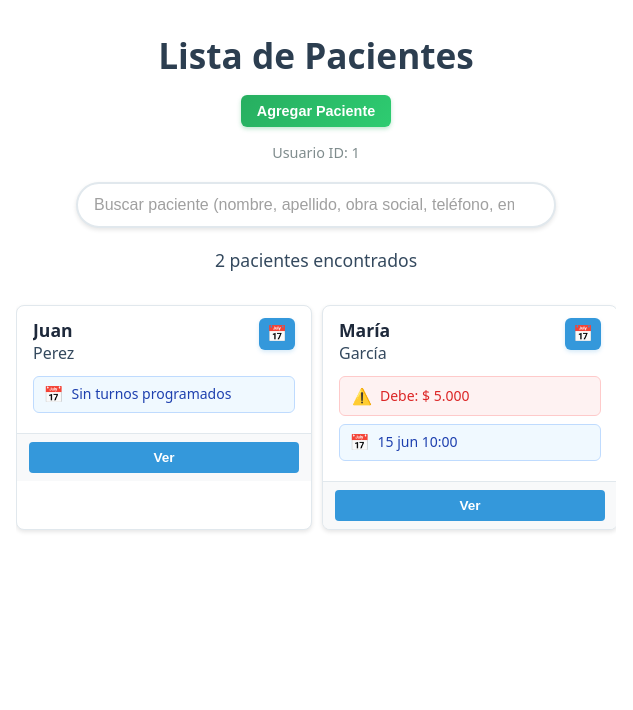
Patients component › toggles patient details on click
expect the heading "Juan" is shown: met, box [33,318,73,342]
Click the button "Ver" below "Sin turnos programados" at (164, 457), box [29,442,299,473]
(page scrolled)
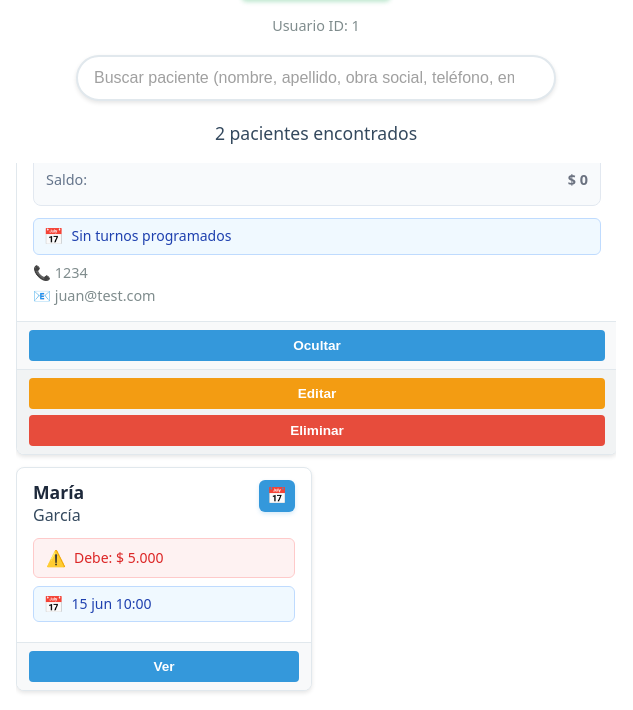
expect the button "Ocultar" is shown: met, box [29,330,605,361]
expect the button "Editar" is shown: met, box [29,378,605,409]
expect the button "Eliminar" is shown: met, box [29,415,605,446]
